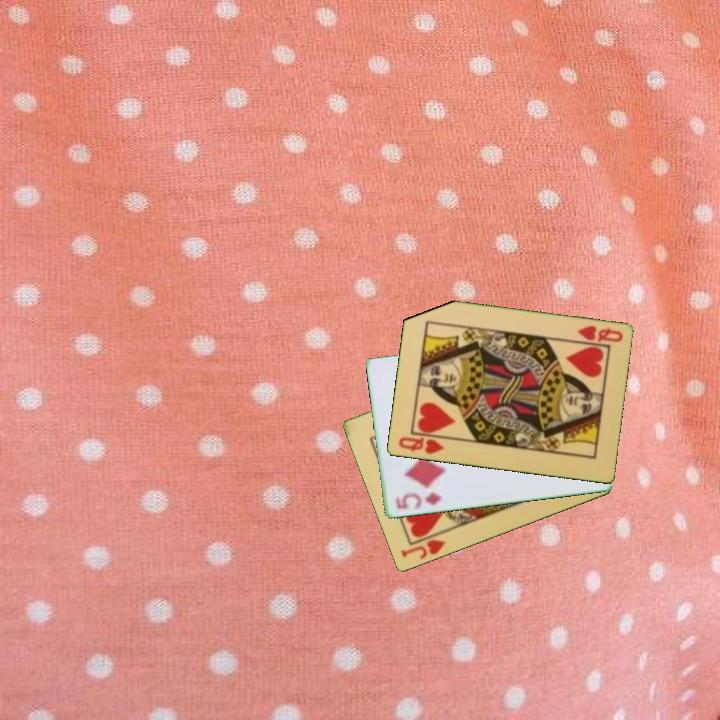5d: (392, 488, 445, 512)
Jh: (397, 536, 449, 562)
Qh: (394, 434, 447, 457), (574, 322, 625, 345)
